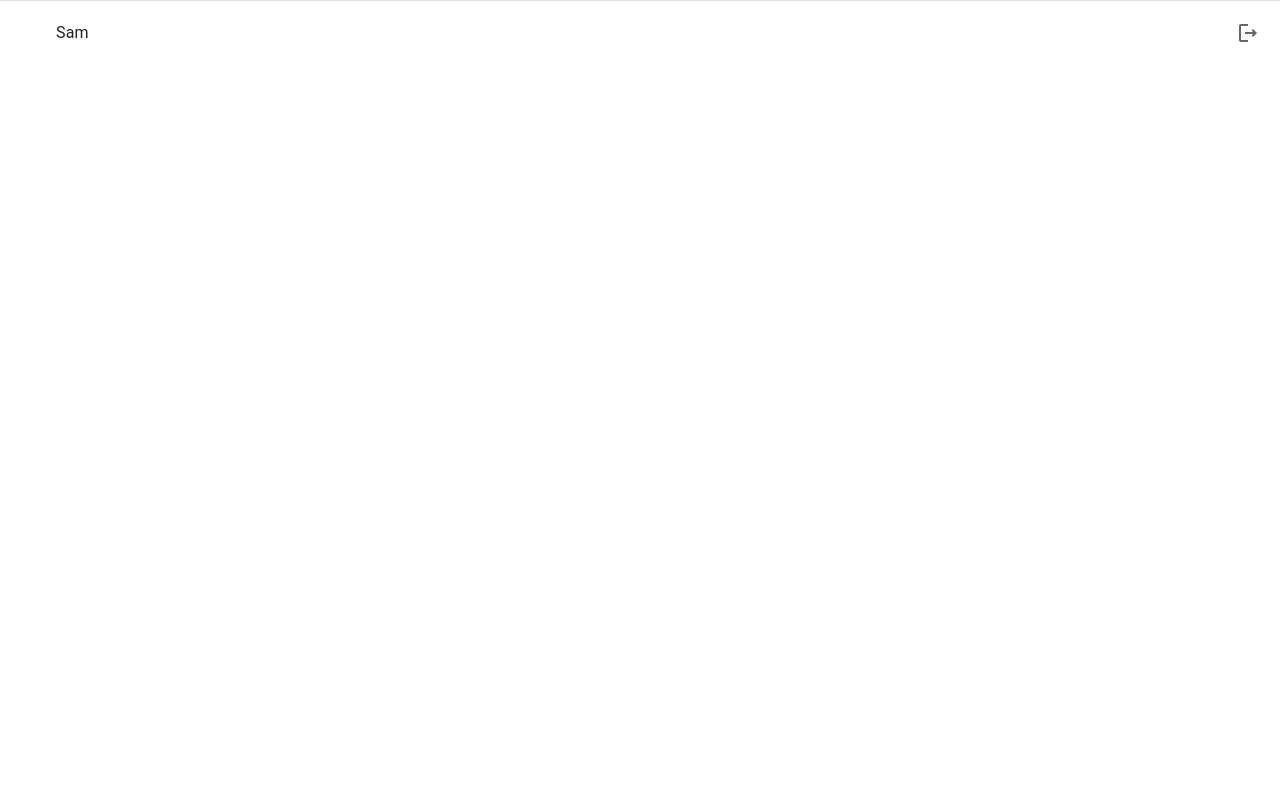
Test: NavFooter › a guest with a PIN opens a dialog with only Change PIN
This screenshot has width=1280, height=800.
Click the button with aria-label "Edit your profile".
click(32, 33)  # box [12,13,1220,53]
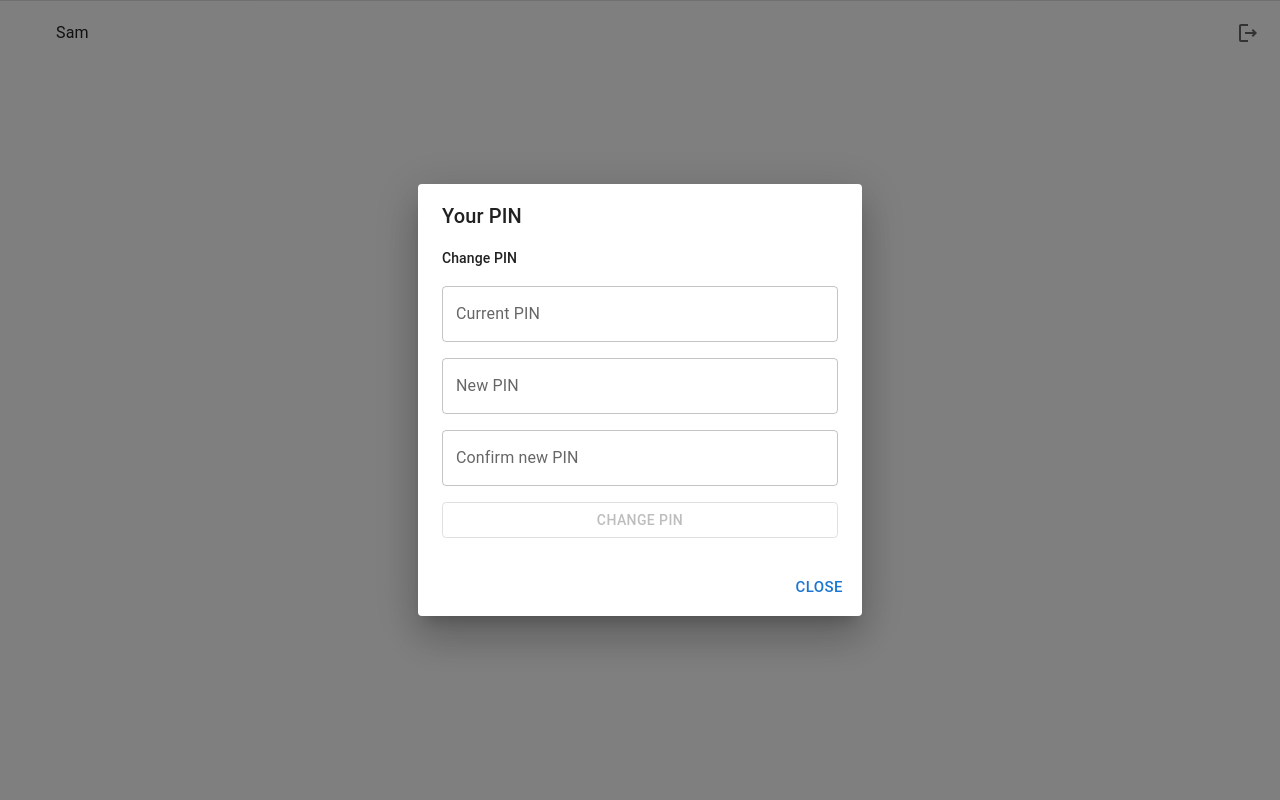
Expected: the password field labelled "Current PIN" is shown, [442,286,838,342]
